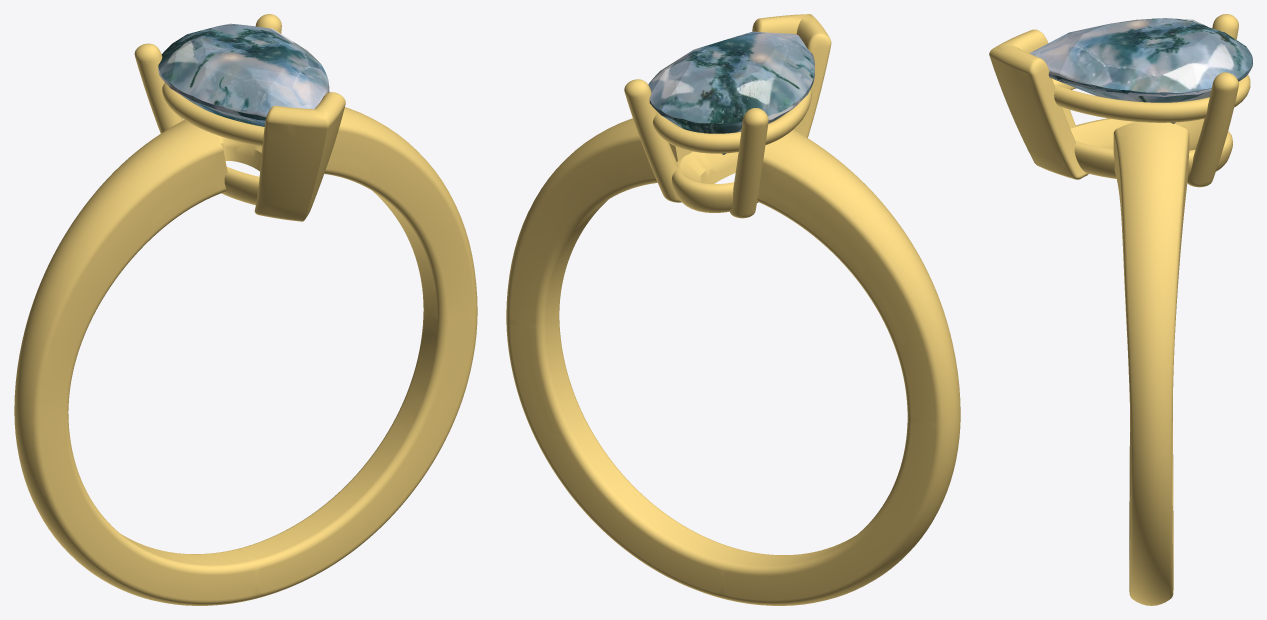
The model's file is mitchellRyanFullYG_webgi.glb.
3 views of the same model, side by side, from view 1: azimuth 30°, elevation 25°; view 2: azimuth 150°, elevation 25°; view 3: azimuth 270°, elevation 25° (orthographic).
Visible parts, largest first — view 1: ryan_pt_for_3d_model, moss_agate_as_a_stone_for_3d_model; view 2: ryan_pt_for_3d_model, moss_agate_as_a_stone_for_3d_model; view 3: ryan_pt_for_3d_model, moss_agate_as_a_stone_for_3d_model.
Part boxes in pixels (bbox=[...]): ryan_pt_for_3d_model: bbox=[14, 14, 477, 605]; moss_agate_as_a_stone_for_3d_model: bbox=[158, 23, 329, 126]; ryan_pt_for_3d_model: bbox=[506, 14, 960, 605]; moss_agate_as_a_stone_for_3d_model: bbox=[648, 31, 814, 154]; ryan_pt_for_3d_model: bbox=[989, 14, 1250, 605]; moss_agate_as_a_stone_for_3d_model: bbox=[1029, 18, 1252, 123].
Bounding box in the file's own units: 2.49 × 2.87 × 1.25.
2 materials, 1 textured.
